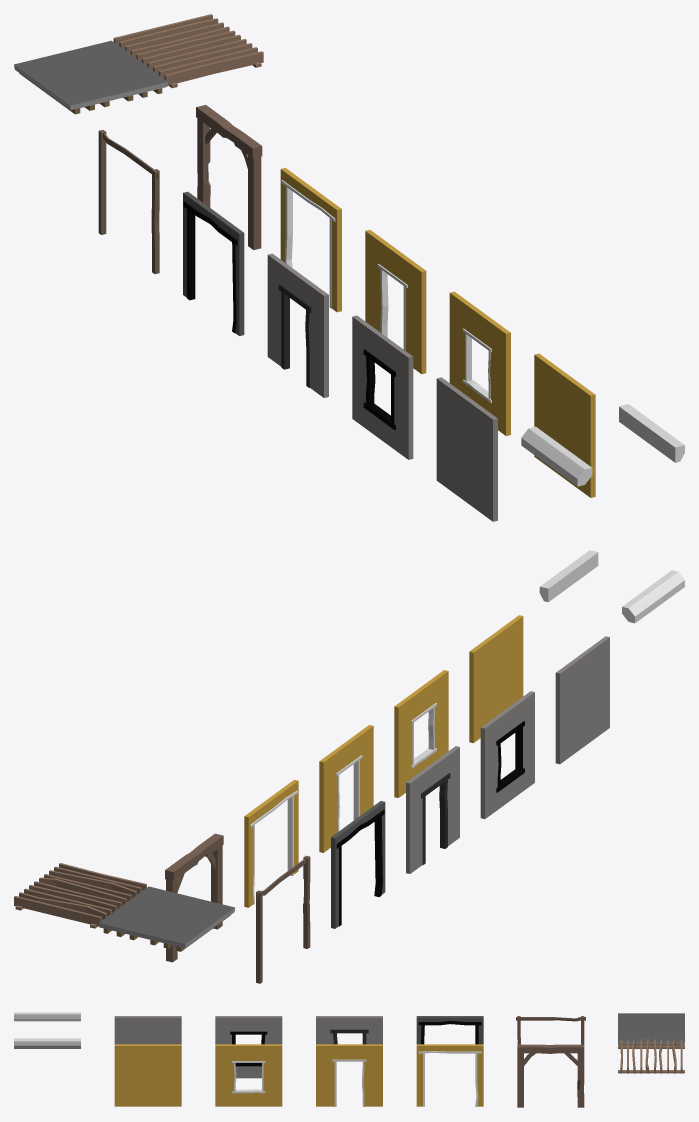
File: Building.fbx
The picture shows the model from 3 angles, top to bottom: view 1: azimuth 30°, elevation 25°; view 2: azimuth 150°, elevation 25°; view 3: azimuth 270°, elevation 25°; orthographic projection. The views are drawn at different scales.
Visible parts, largest first — view 1: Cube.005, Cube.010, Cube.011, Cube.003, Cube.004, Cube.002, Cube.001, Cube, Cube.009, Cube.007, Cube.006, Cube.008 (+2 smaller); view 2: Cube.005, Cube.010, Cube.011, Cube, Cube.003, Cube.002, Cube.004, Cube.001, Cube.007, Cube.006, Cube.009, Cube.008 (+2 smaller); view 3: Cube, Cube.002, Cube.001, Cube.003, Cube.010, Cube.005, Cube.004, Cube.006, Cube.009, Cube.011, Cube.007, Cube.013 (+2 smaller).
Part boxes in pixels (<box>): Cube.005: <box>436,377,497,521</box>; Cube.010: <box>14,40,167,114</box>; Cube.011: <box>113,14,263,88</box>; Cube.003: <box>352,315,413,459</box>; Cube.004: <box>267,253,328,397</box>; Cube.002: <box>449,291,510,435</box>; Cube.001: <box>365,230,426,374</box>; Cube: <box>534,353,595,497</box>; Cube.009: <box>196,105,262,249</box>; Cube.007: <box>183,191,244,335</box>; Cube.006: <box>280,168,341,312</box>; Cube.008: <box>98,129,159,274</box>; Cube.005: <box>555,636,609,764</box>; Cube.010: <box>98,886,235,951</box>; Cube.011: <box>14,863,146,928</box>; Cube: <box>469,615,523,743</box>; Cube.003: <box>480,691,534,818</box>; Cube.002: <box>394,670,448,797</box>; Cube.004: <box>406,746,459,873</box>; Cube.001: <box>319,725,373,852</box>; Cube.007: <box>331,801,385,928</box>; Cube.006: <box>244,779,298,907</box>; Cube.009: <box>165,833,223,962</box>; Cube.008: <box>256,855,310,983</box>; Cube: <box>114,1044,181,1106</box>; Cube.002: <box>215,1044,282,1106</box>; Cube.001: <box>316,1044,382,1106</box>; Cube.003: <box>215,1016,282,1078</box>; Cube.010: <box>618,1013,684,1045</box>; Cube.005: <box>114,1016,181,1044</box>; Cube.004: <box>316,1016,382,1044</box>; Cube.006: <box>416,1044,483,1106</box>; Cube.009: <box>517,1044,584,1107</box>; Cube.011: <box>618,1039,684,1073</box>; Cube.007: <box>416,1016,483,1044</box>; Cube.013: <box>14,1038,80,1048</box>.
Size of the model in its own units: 403 by 221 by 2000.
